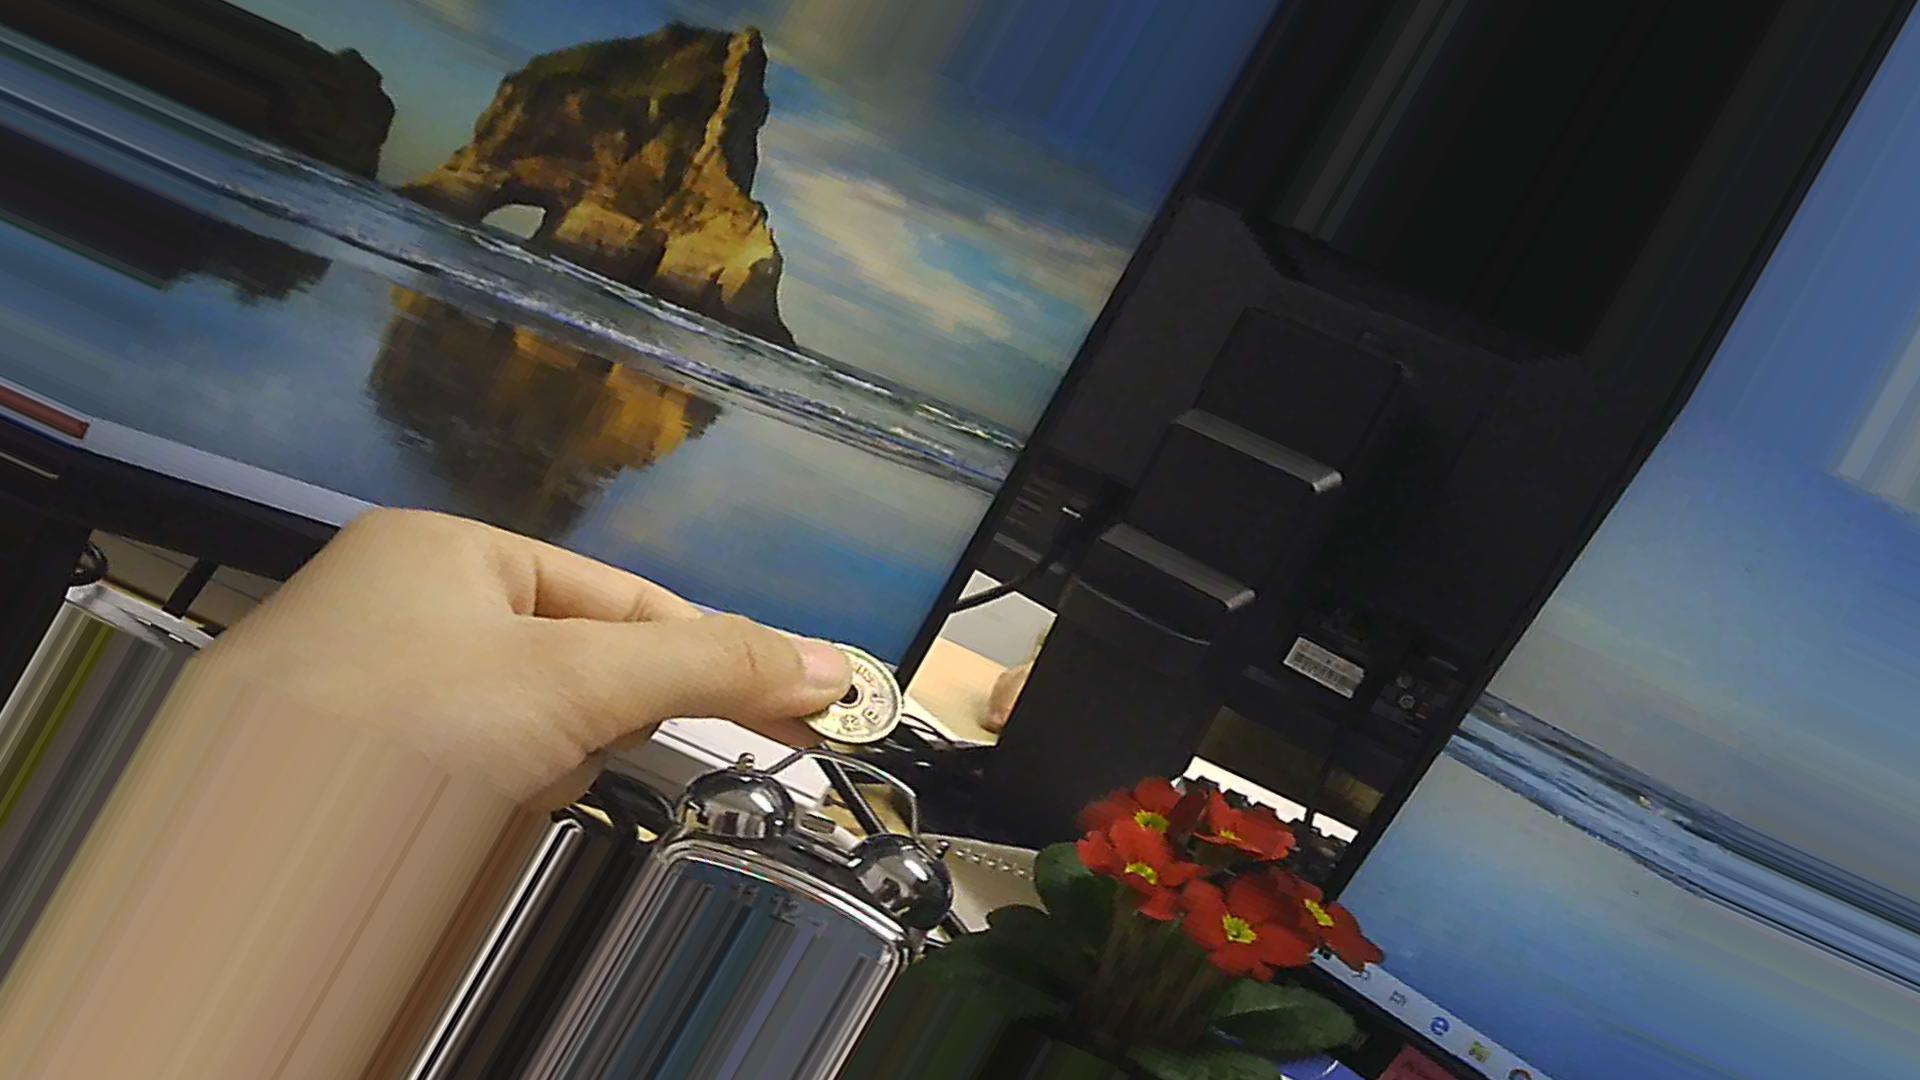5 Yen: (790, 640, 909, 750)
